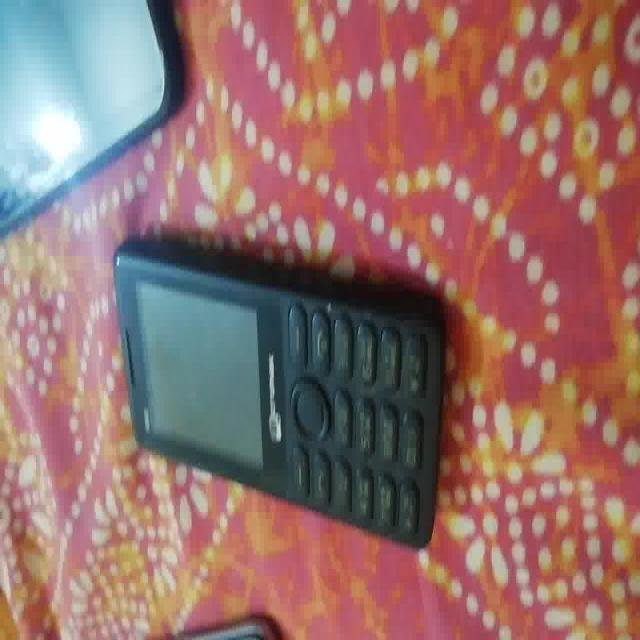phone: (113, 240, 449, 559), (0, 4, 179, 226)
